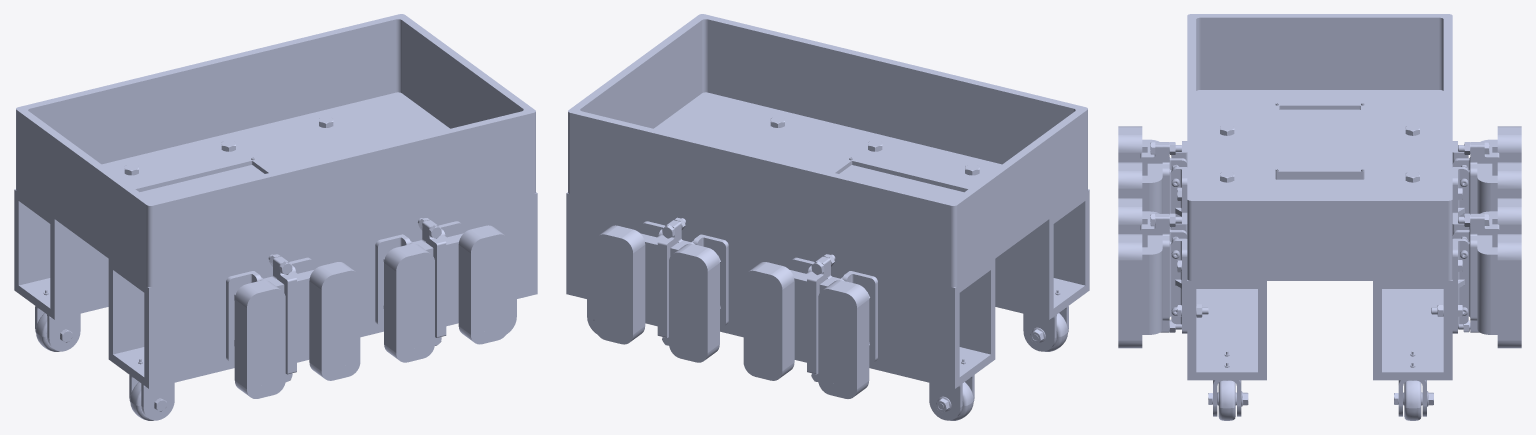
The model's file is Ensamblaje_Provisional_sinLetras.glb.
3 views of the same model, side by side, from view 1: azimuth 30°, elevation 25°; view 2: azimuth 150°, elevation 25°; view 3: azimuth 270°, elevation 25° (orthographic).
Visible parts, largest first — view 1: empty_17, empty_28, empty_29, empty_2, empty_50, empty_6, empty_33, empty_5, empty_32, empty_124, empty_132; view 2: empty_17, empty_50, empty_72, empty_51, empty_28, empty_55, empty_76, empty_53, empty_74, empty_132, empty_124; view 3: empty_17, empty_28, empty_50, empty_51, empty_2, empty_72, empty_29, empty_4, empty_54, empty_3, empty_52, empty_30 (+11 smaller).
Boxes of the visible parts, box(x1,y1,x2,y2) form: empty_17: box(16, 14, 535, 287); empty_28: box(108, 192, 537, 388); empty_29: box(234, 262, 360, 398); empty_2: box(384, 225, 509, 362); empty_50: box(14, 189, 108, 319); empty_6: box(426, 222, 446, 337); empty_33: box(276, 259, 296, 374); empty_5: box(375, 234, 410, 326); empty_32: box(226, 271, 261, 362); empty_124: box(129, 375, 174, 420); empty_132: box(35, 306, 80, 351); empty_17: box(568, 14, 1087, 287); empty_50: box(566, 192, 995, 388); empty_72: box(743, 262, 869, 398); empty_51: box(594, 225, 719, 362); empty_28: box(995, 189, 1089, 319); empty_55: box(657, 222, 677, 337); empty_76: box(807, 259, 827, 374); empty_53: box(693, 234, 728, 326); empty_74: box(842, 271, 877, 362); empty_132: box(929, 375, 974, 420); empty_124: box(1023, 306, 1068, 351); empty_17: box(1187, 14, 1452, 280); empty_28: box(1187, 280, 1266, 380); empty_50: box(1373, 280, 1452, 380); empty_51: box(1477, 198, 1521, 348); empty_2: box(1118, 198, 1162, 348); empty_72: box(1477, 126, 1521, 213); empty_29: box(1118, 126, 1162, 213); empty_4: box(1171, 238, 1187, 333); empty_54: box(1452, 238, 1468, 333); empty_3: box(1162, 213, 1187, 332); empty_52: box(1452, 213, 1477, 332); empty_30: box(1162, 142, 1187, 229).
Bounding box in the file's own units: 500 × 286 × 456.
